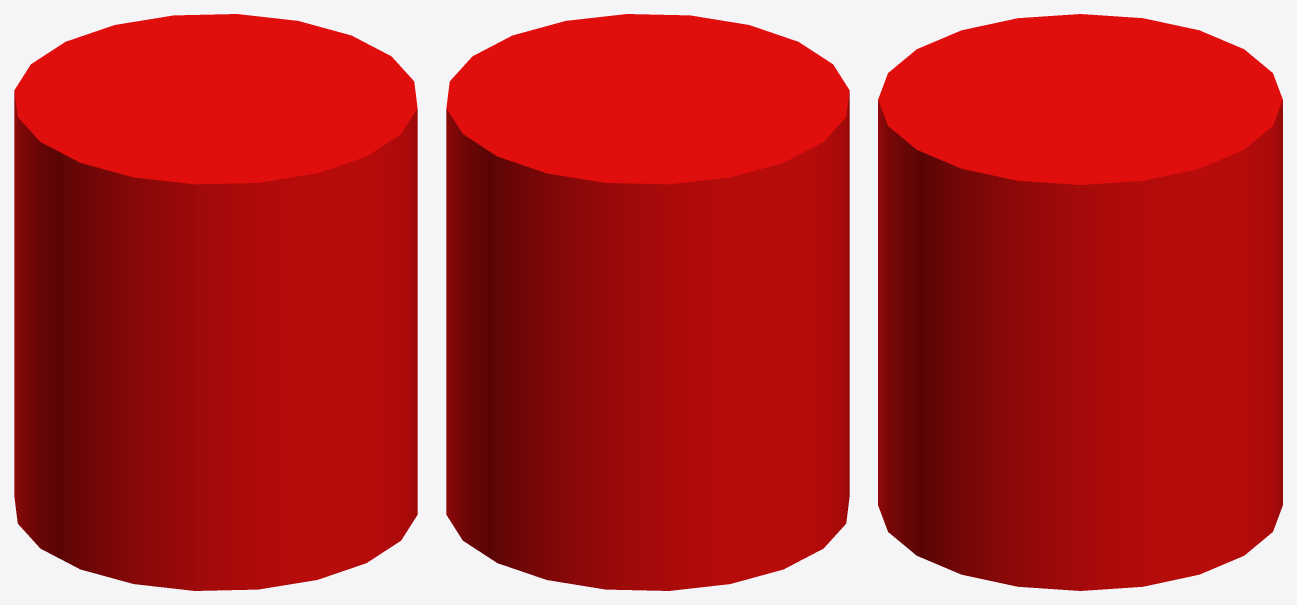
Rendered from CILINDRO.fbx.
3 views of the same model, side by side, from view 1: azimuth 30°, elevation 25°; view 2: azimuth 150°, elevation 25°; view 3: azimuth 270°, elevation 25° (orthographic).
Parts seen in each view (by area): view 1: pCylinder1; view 2: pCylinder1; view 3: pCylinder1.
Part boxes in pixels (bbox=[...]): pCylinder1: bbox=[14, 14, 417, 590]; pCylinder1: bbox=[446, 14, 849, 590]; pCylinder1: bbox=[878, 14, 1282, 590].
Size of the model in its own units: 6.32 by 7 by 6.32.
Materials: 1 (1 with a texture image).
